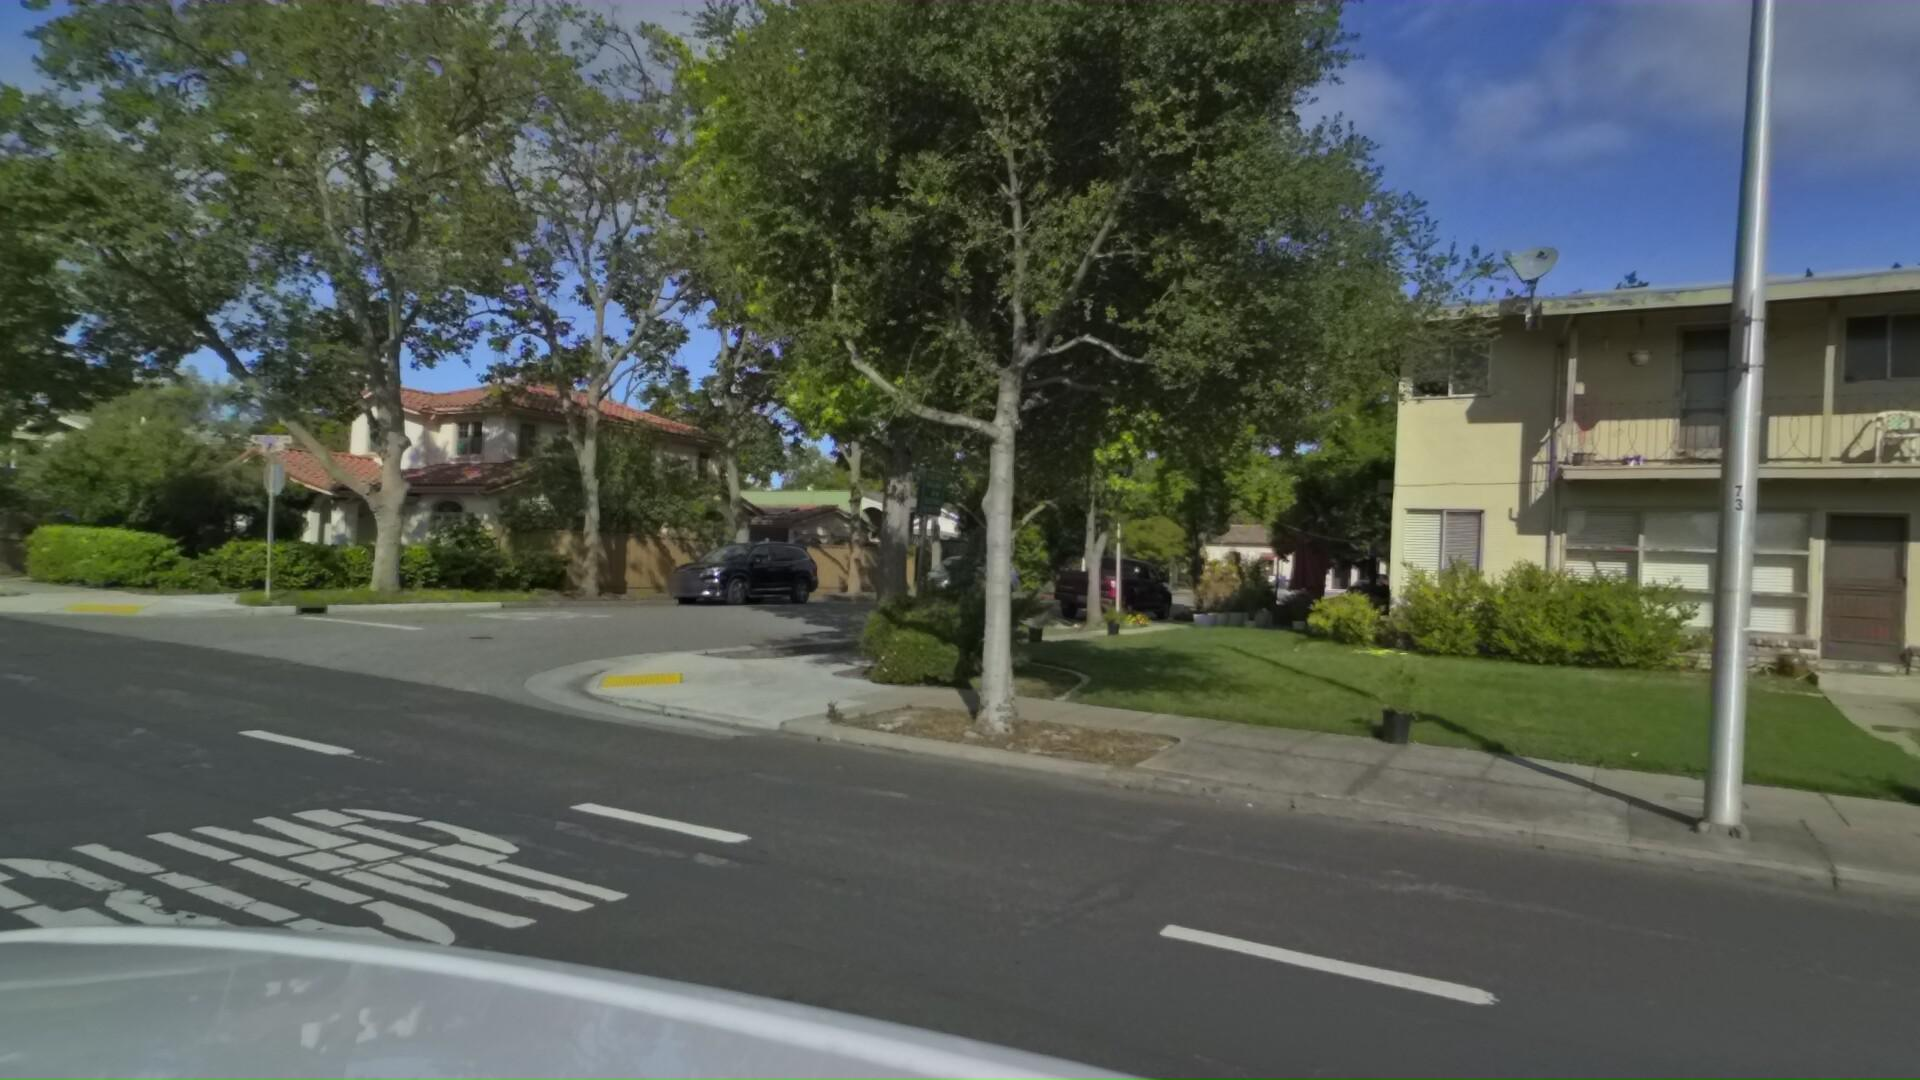car: (637, 533, 825, 611), (1031, 549, 1164, 629), (895, 550, 1014, 603), (1031, 556, 1113, 589)
